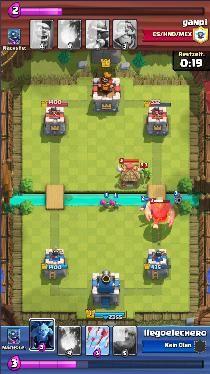ally_archer: (99, 199, 110, 210), (110, 200, 122, 210)
ally_knight: (141, 199, 156, 214)
ally_musketeer: (173, 192, 183, 206)
enemy_giant: (144, 197, 175, 230)
enemy_goblin_hut: (115, 163, 145, 189)
enemy_spear_goblin: (144, 168, 152, 182), (141, 170, 145, 179)
